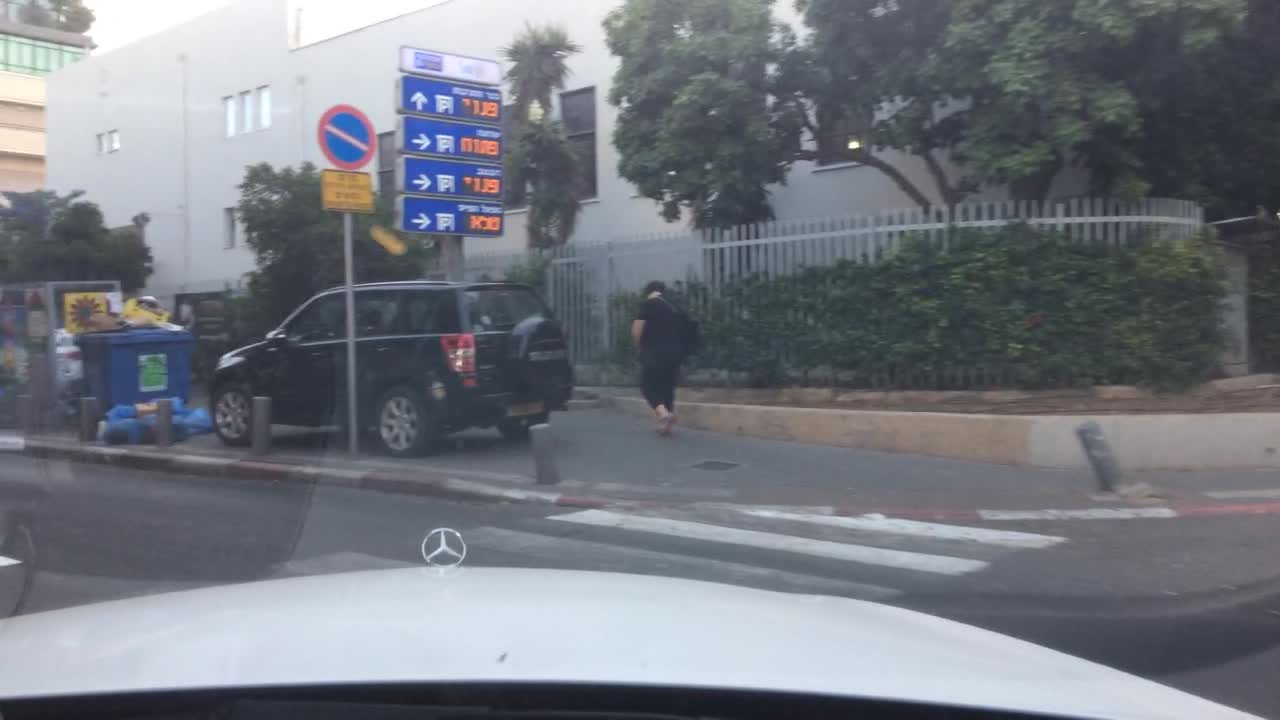car: (203, 278, 579, 446)
person: (627, 273, 700, 436)
traffic sign: (393, 41, 506, 238), (316, 103, 374, 168), (318, 166, 377, 214)
